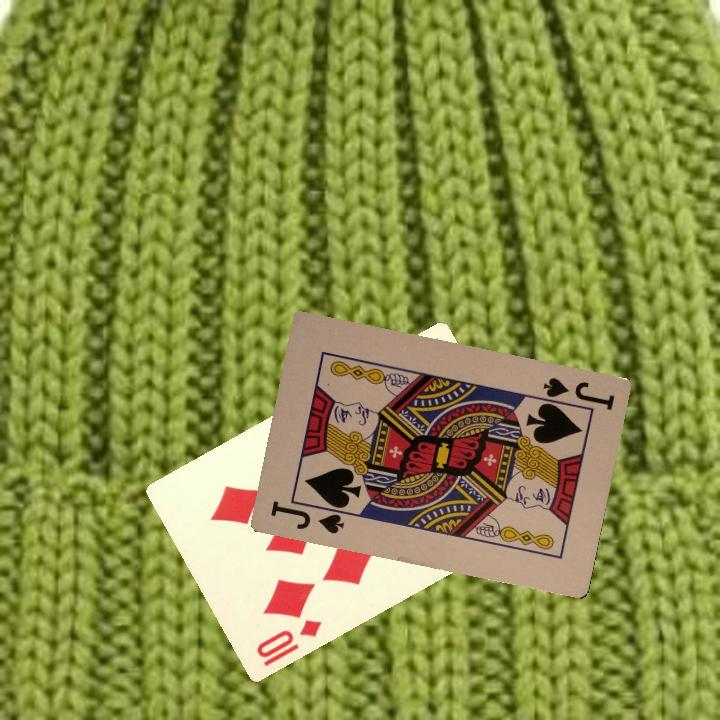10d: (252, 615, 325, 669)
Js: (533, 373, 617, 415), (266, 494, 347, 537)
